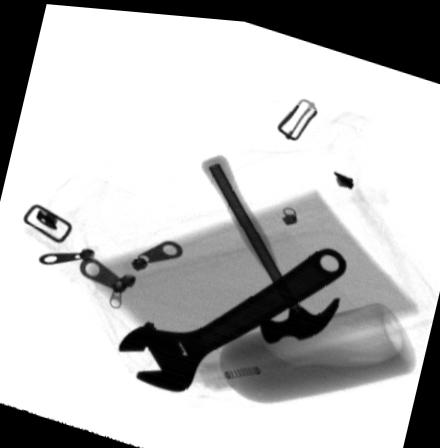Hammer: (198, 150, 341, 339)
Wrench: (118, 239, 346, 389)
